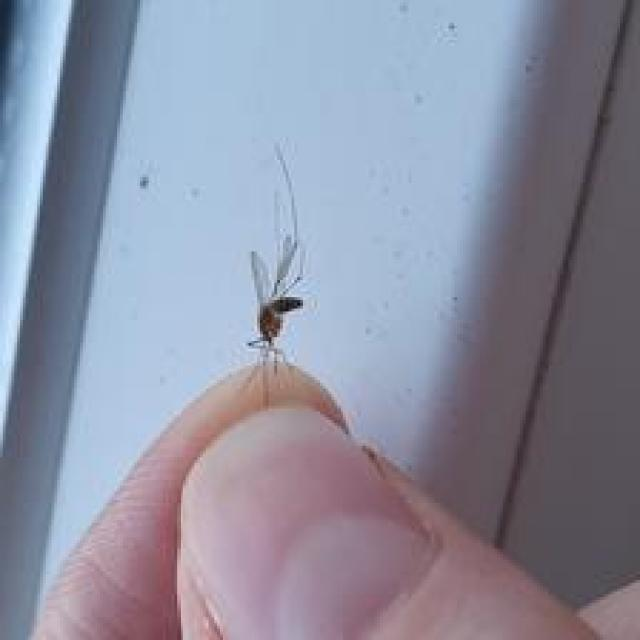Culex: (246, 234, 306, 374)
